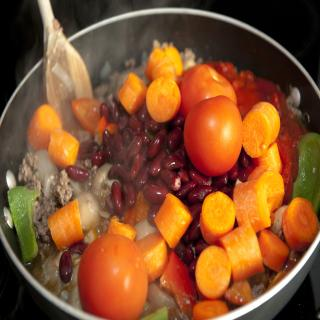tomato: (77, 232, 148, 320), (185, 91, 249, 177), (178, 63, 239, 112)
